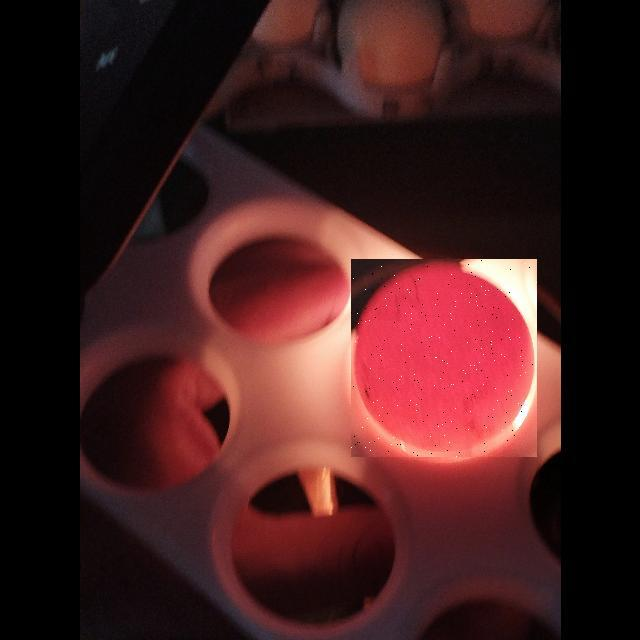Infertile: (351, 259, 537, 457)
